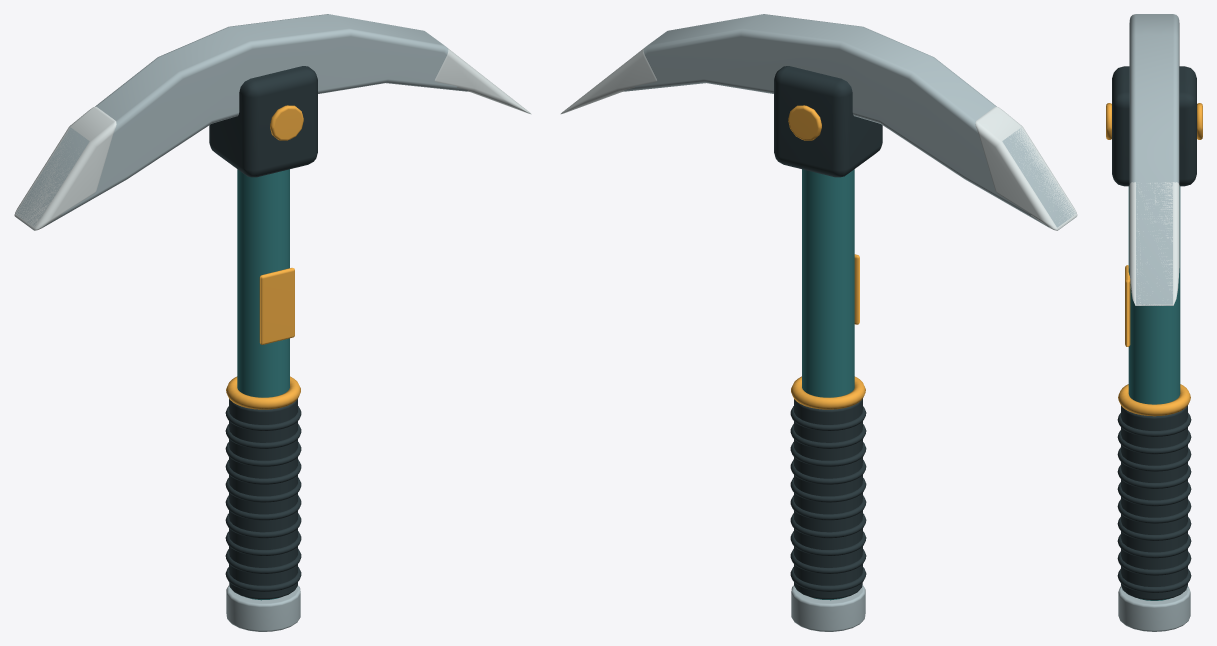
File: pickaxe.fbx
3 renders of one model, left to right at view 1: azimuth 30°, elevation 25°; view 2: azimuth 150°, elevation 25°; view 3: azimuth 270°, elevation 25°, orthographic. The views are drawn at different scales.
Parts seen in each view (by area): view 1: Vesper_Pickaxe; view 2: Vesper_Pickaxe; view 3: Vesper_Pickaxe.
Boxes of the visible parts, box(x1,y1,x2,y2) form: Vesper_Pickaxe: box(14, 14, 531, 631); Vesper_Pickaxe: box(560, 14, 1077, 631); Vesper_Pickaxe: box(1106, 14, 1202, 631).
Size of the model in its own units: 315 by 356 by 54.6.
